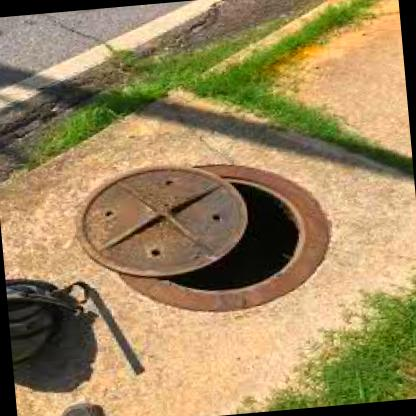manholes: (69, 146, 348, 331)
